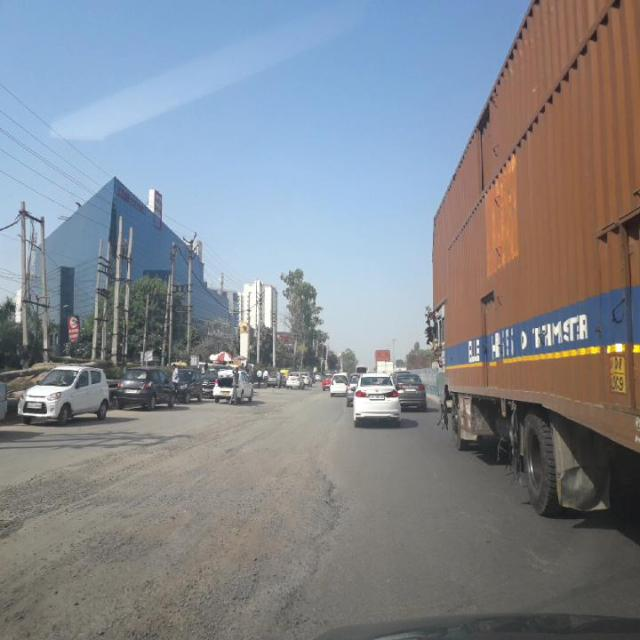Surface Erosion: (0, 407, 417, 609)
